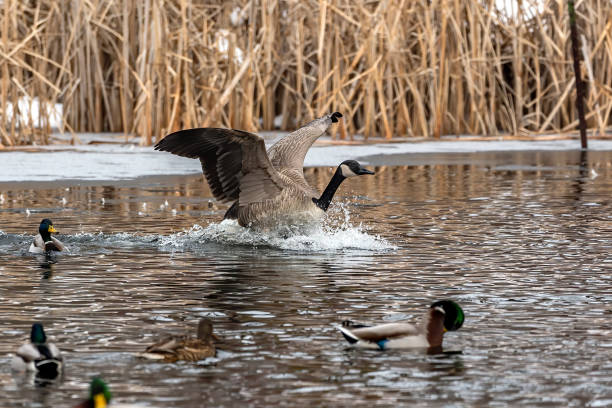goose: (150, 111, 377, 234)
